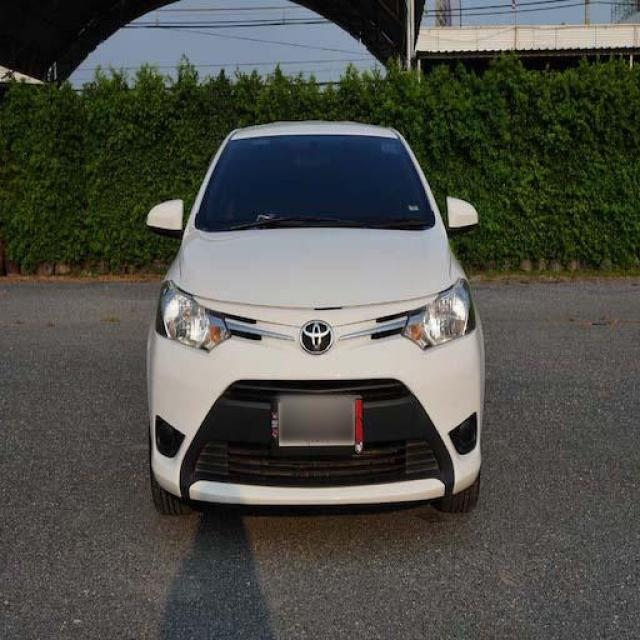front_bumper: (147, 294, 486, 504)
front_glass: (196, 134, 437, 234)
front_left_light: (402, 274, 476, 352)
front_right_light: (156, 280, 231, 353)
hood: (180, 225, 450, 307)
left_mirror: (447, 196, 479, 239)
right_mirror: (147, 197, 185, 241)
